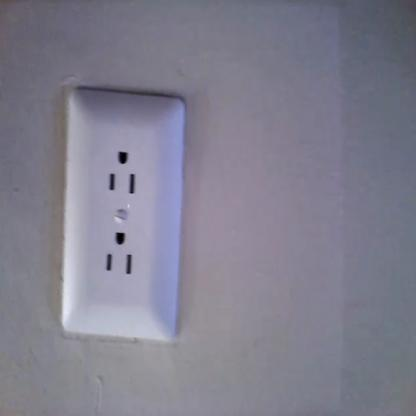OUTLET: (60, 89, 188, 338)
